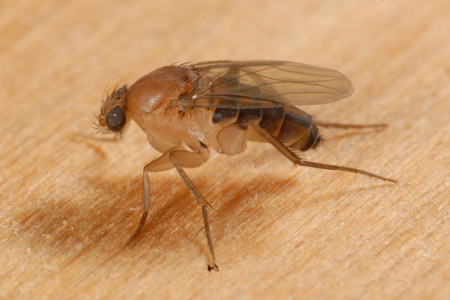phorid fly: (78, 36, 411, 280)
